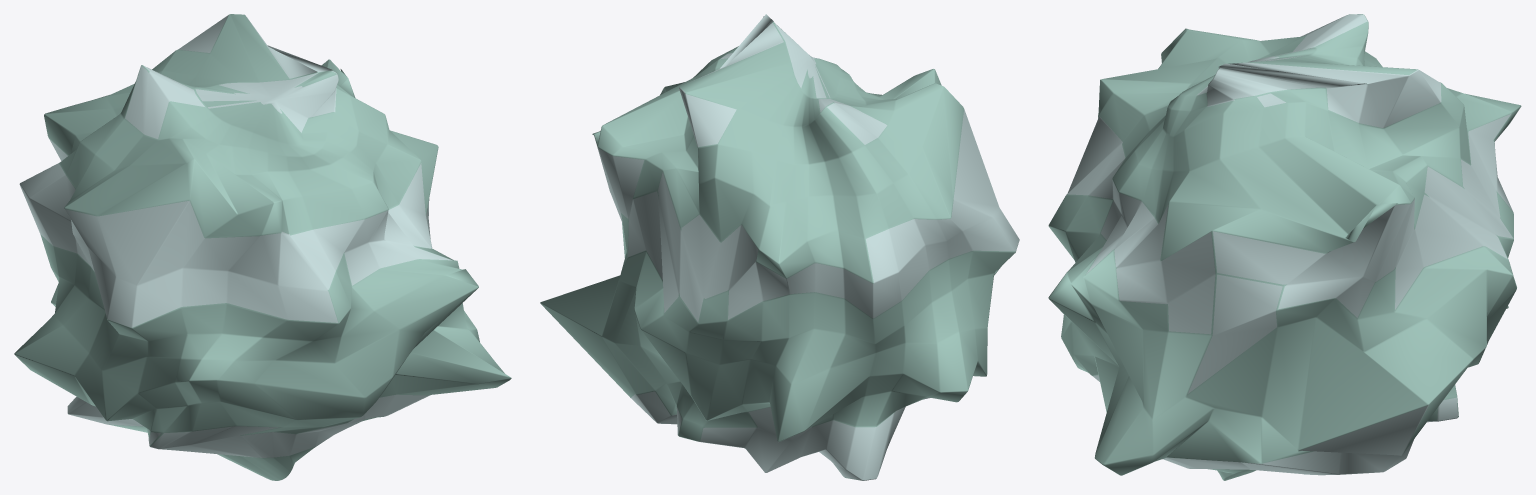
The model's file is PLASTIC WRAPPER.fbx.
The picture shows the model from 3 angles, left to right: view 1: azimuth 30°, elevation 25°; view 2: azimuth 150°, elevation 25°; view 3: azimuth 270°, elevation 25°; orthographic projection. The views are drawn at different scales.
Parts seen in each view (by area): view 1: Cube; view 2: Cube; view 3: Cube.
Part boxes in pixels (<box>): Cube: <box>14,14,511,480</box>; Cube: <box>540,14,1019,480</box>; Cube: <box>1048,14,1521,480</box>.
Size of the model in its own units: 260 by 258 by 251.
